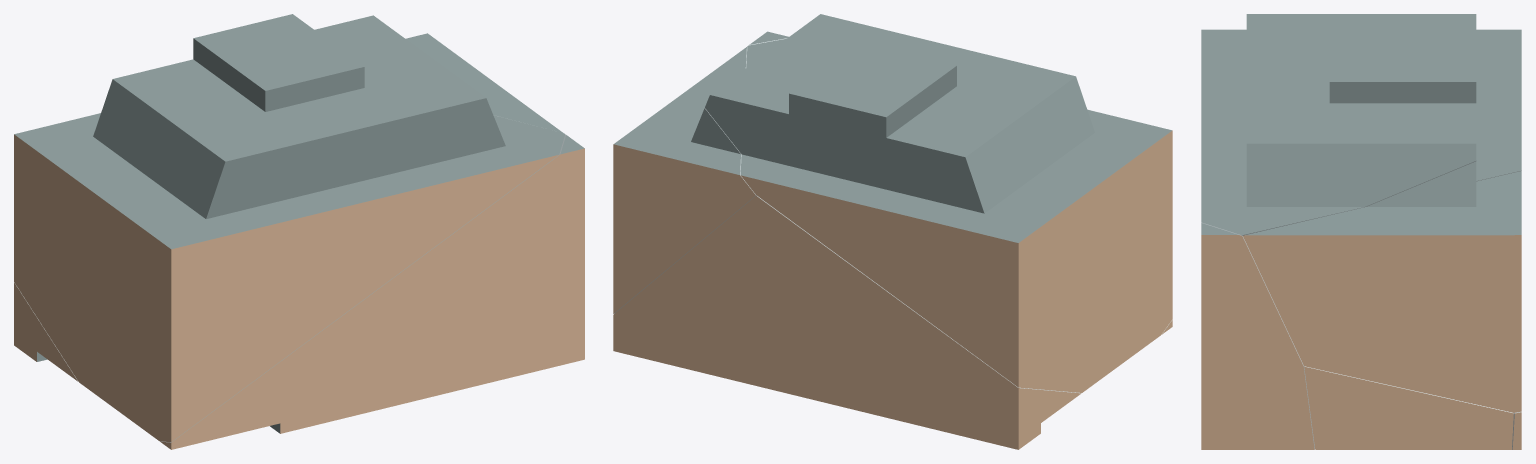
File: TvVintage_Broken.fbx
The picture shows the model from 3 angles, left to right: view 1: azimuth 30°, elevation 25°; view 2: azimuth 150°, elevation 25°; view 3: azimuth 270°, elevation 25°; orthographic projection. The views are drawn at different scales.
Visible parts, largest first — view 1: televisionVintage.001_cell.001, televisionVintage.001_cell.004, televisionVintage.001_cell.003, televisionVintage.001_cell; view 2: televisionVintage.001_cell.001, televisionVintage.001_cell, televisionVintage.001_cell.003; view 3: televisionVintage.001_cell.001, televisionVintage.001_cell.003, televisionVintage.001_cell.004, televisionVintage.001_cell.002, televisionVintage.001_cell.
Part boxes in pixels (x1,y1,x2,y2): televisionVintage.001_cell.001: (14,14,565,441); televisionVintage.001_cell.004: (160,134,584,449); televisionVintage.001_cell.003: (405,33,562,132); televisionVintage.001_cell: (14,282,78,381); televisionVintage.001_cell.001: (705,14,1172,392); televisionVintage.001_cell: (613,195,1081,449); televisionVintage.001_cell.003: (613,47,756,313); televisionVintage.001_cell.001: (1201,14,1521,235); televisionVintage.001_cell.003: (1243,161,1521,412); televisionVintage.001_cell.004: (1201,223,1314,449); televisionVintage.001_cell.002: (1304,366,1513,449); televisionVintage.001_cell: (1512,411,1521,449).
Size of the model in its own units: 205 by 135 by 135.
